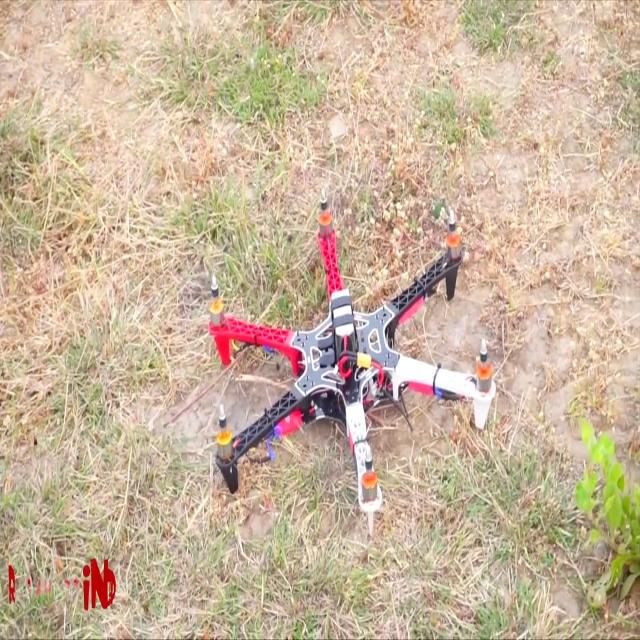drone: (172, 187, 502, 529)
